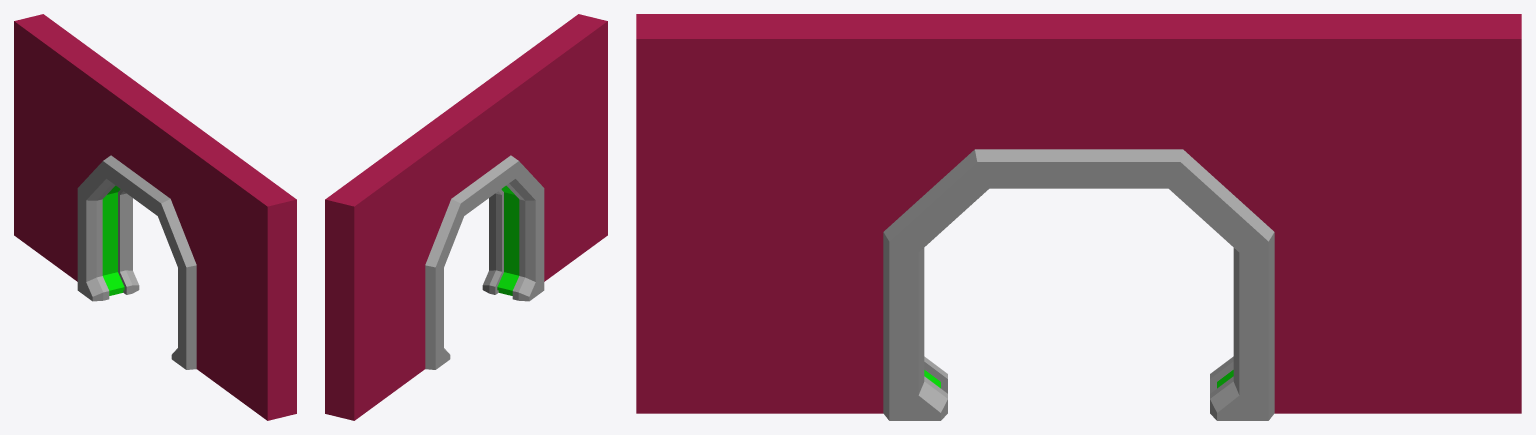
The model's file is SM_Wall_Gate_01.fbx.
3 views of the same model, side by side, from view 1: azimuth 30°, elevation 25°; view 2: azimuth 150°, elevation 25°; view 3: azimuth 270°, elevation 25° (orthographic). The views are drawn at different scales.
Parts seen in each view (by area): view 1: SM_Wall_Gate_01; view 2: SM_Wall_Gate_01; view 3: SM_Wall_Gate_01.
Part boxes in pixels (x1,y1,x2,y2): SM_Wall_Gate_01: [14, 14, 296, 420]; SM_Wall_Gate_01: [325, 14, 607, 420]; SM_Wall_Gate_01: [636, 14, 1521, 420].
Bounding box in the file's own units: 160 × 700 × 1500.
